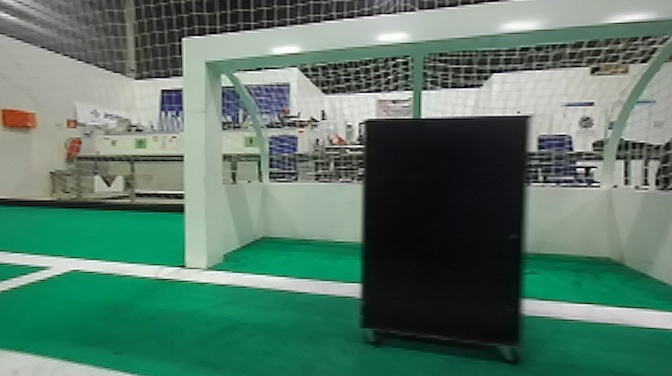goalpost: (182, 42, 213, 274)
